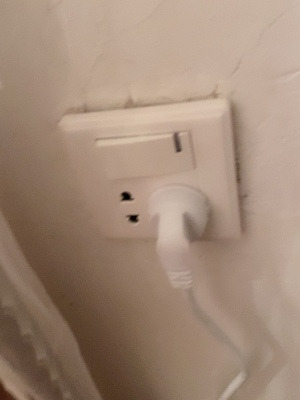switch: (91, 126, 204, 183)
